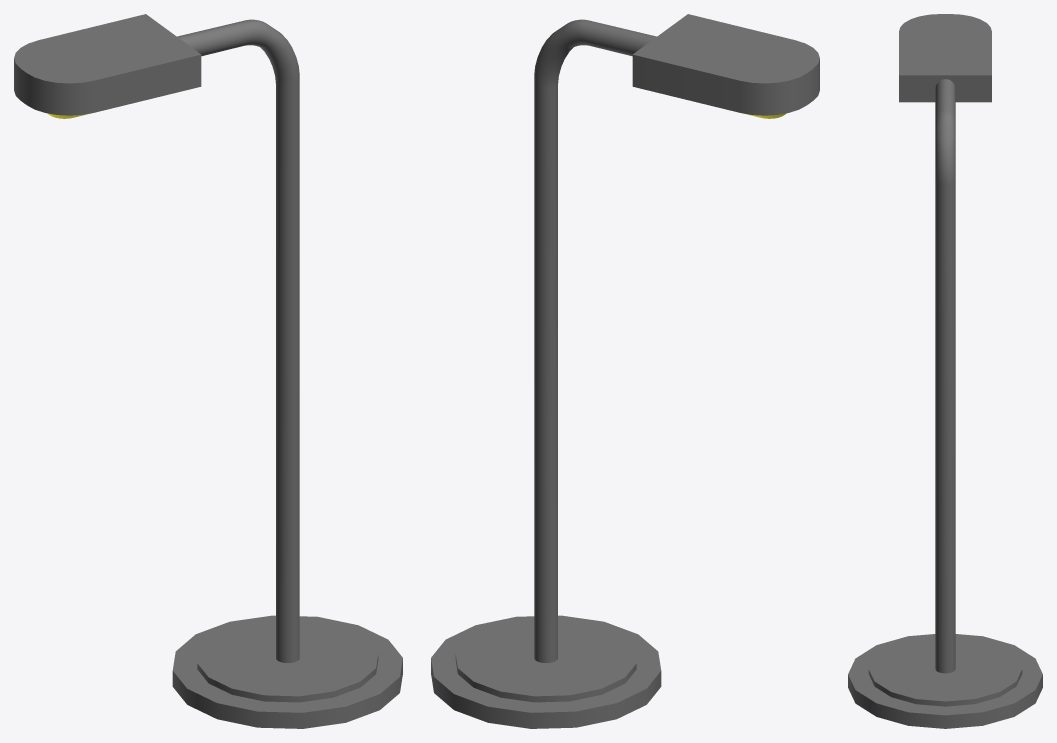
File: streetlamp.fbx
3 renders of one model, left to right at view 1: azimuth 30°, elevation 25°; view 2: azimuth 150°, elevation 25°; view 3: azimuth 270°, elevation 25°, orthographic. The views are drawn at different scales.
Parts seen in each view (by area): view 1: Cube; view 2: Cube; view 3: Cube.
Boxes of the visible parts, x1,y1,x2,y2 form: Cube: (14,14,402,728); Cube: (431,14,819,728); Cube: (848,14,1042,728).
Size of the model in its own units: 264 by 466 by 145.
1 material, 1 textured.
